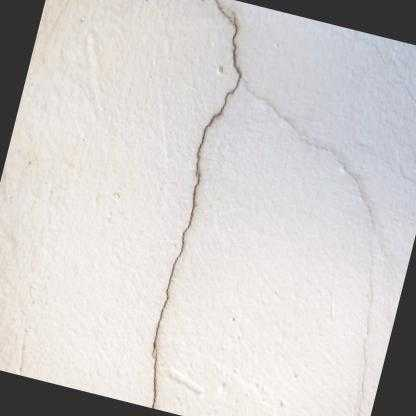crack: (151, 0, 241, 408)
